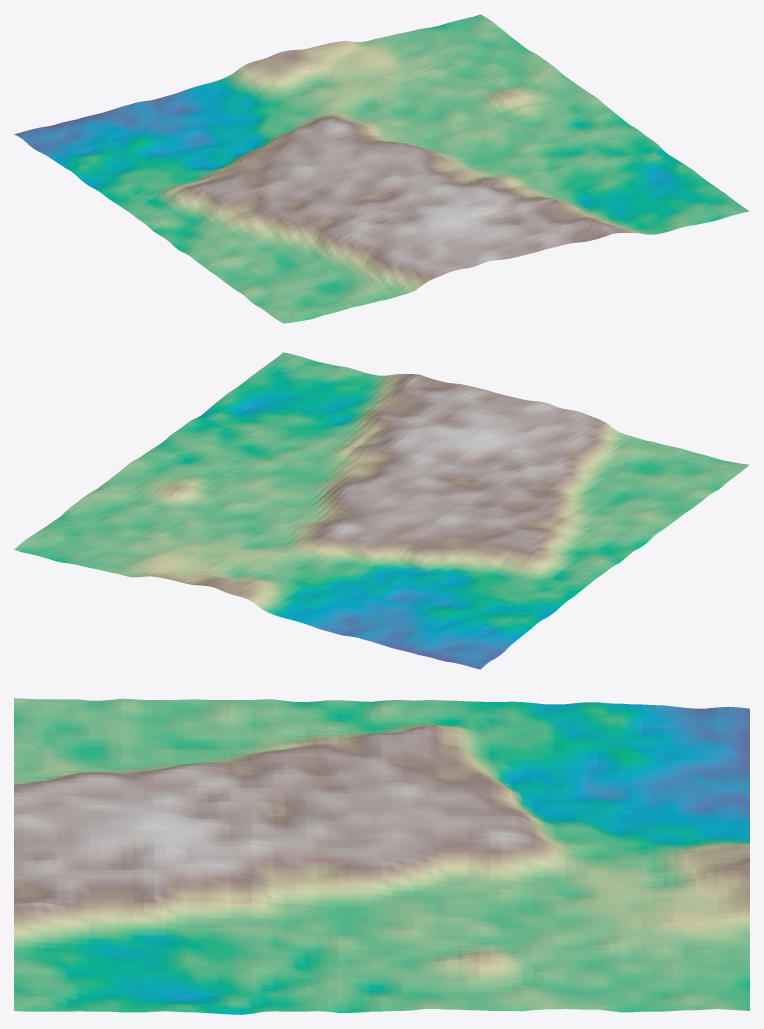
The model's file is 003392_terrain_only.glb.
3 renders of one model, top to bottom at view 1: azimuth 30°, elevation 25°; view 2: azimuth 150°, elevation 25°; view 3: azimuth 270°, elevation 25°, orthographic. The views are drawn at different scales.
Visible parts, largest first — view 1: terrain; view 2: terrain; view 3: terrain.
Boxes of the visible parts, x1,y1,x2,y2 form: terrain: (14,14,749,323); terrain: (14,352,749,669); terrain: (14,698,749,1014).
Size of the model in its own units: 0.0183 by 0.000831 by 0.0183.
